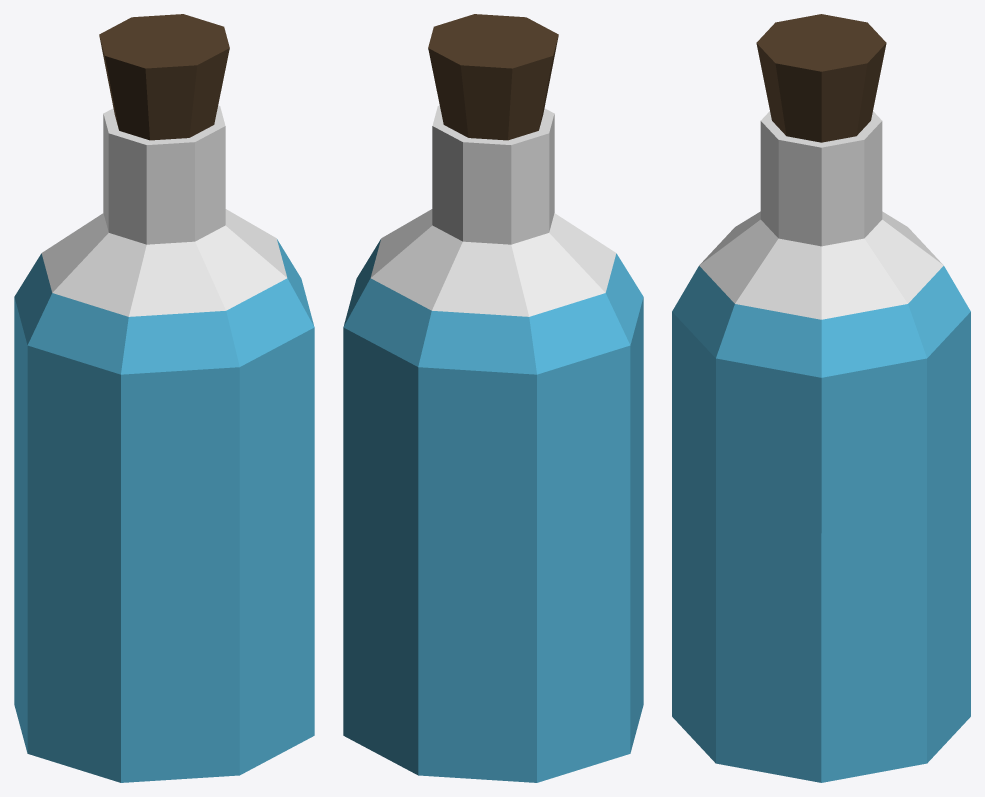
File: voda.fbx
3 renders of one model, left to right at view 1: azimuth 30°, elevation 25°; view 2: azimuth 150°, elevation 25°; view 3: azimuth 270°, elevation 25°, orthographic.
Visible parts, largest first — view 1: Cube; view 2: Cube; view 3: Cube.
Boxes of the visible parts, x1,y1,x2,y2 form: Cube: (14, 14, 314, 782); Cube: (343, 14, 643, 782); Cube: (672, 14, 970, 782).
Bounding box in the file's own units: 103 × 243 × 97.87.
